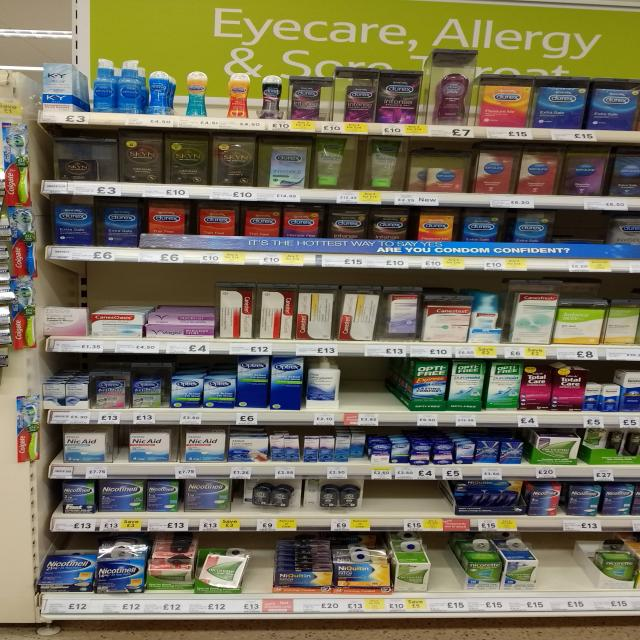void: (347, 358, 402, 427), (545, 530, 587, 611), (560, 208, 604, 271), (408, 482, 448, 532), (433, 534, 455, 613), (368, 482, 402, 530)
